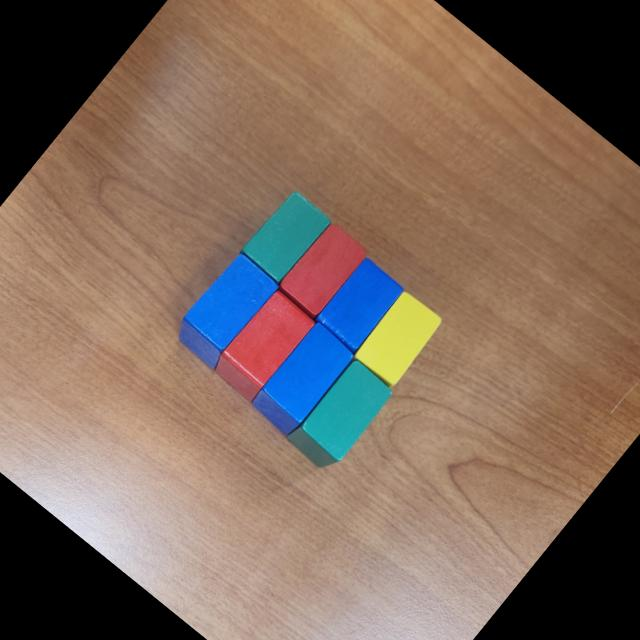blue: (167, 248, 283, 372), (244, 318, 360, 442), (312, 256, 408, 357)
green: (283, 356, 398, 478), (238, 187, 334, 287)
red: (207, 286, 317, 404), (276, 220, 371, 320)
yellow: (351, 289, 446, 389)
